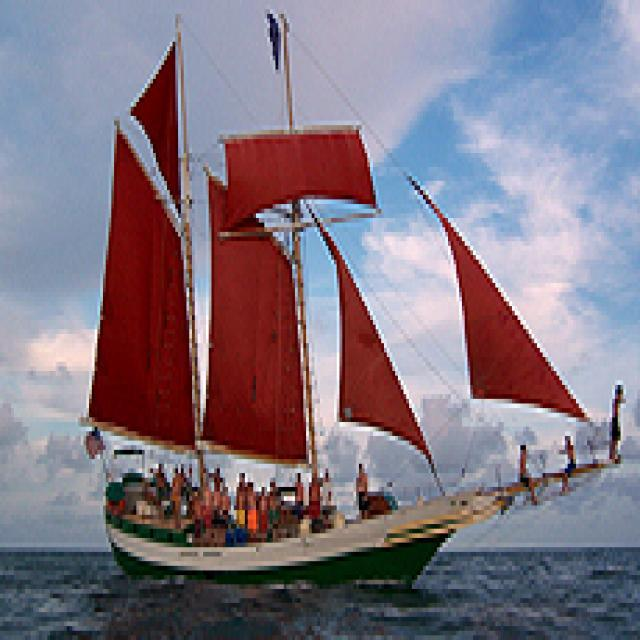Ship: (86, 6, 605, 590)
